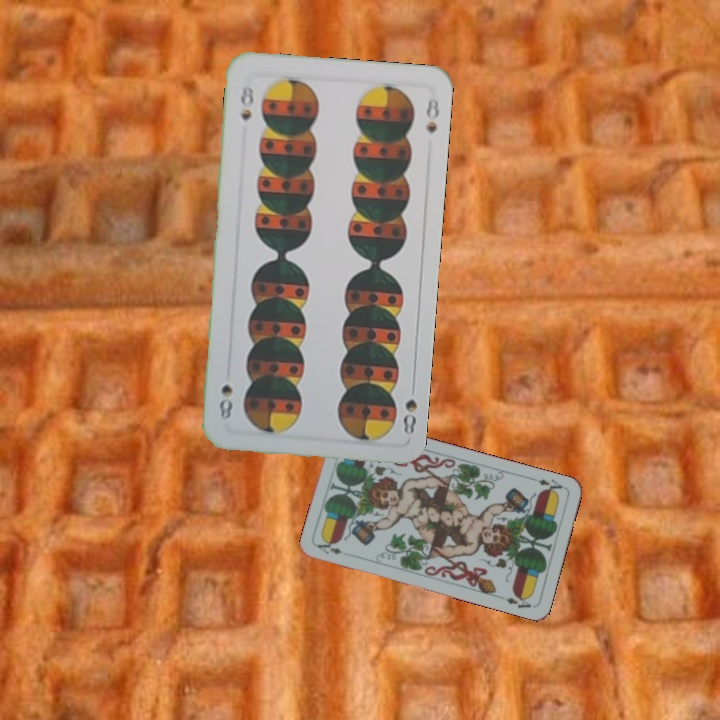EA: (527, 473, 567, 497), (313, 537, 344, 557)
S8: (399, 395, 420, 438), (236, 82, 257, 123)
